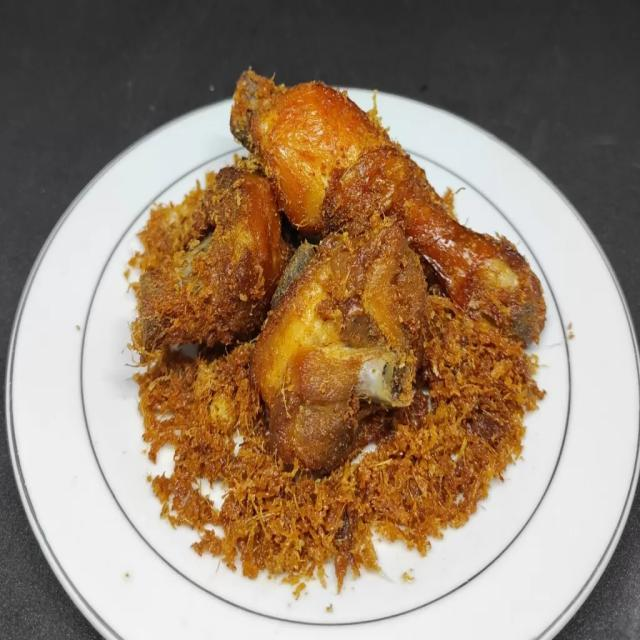ayam_goreng: (100, 68, 564, 580)
